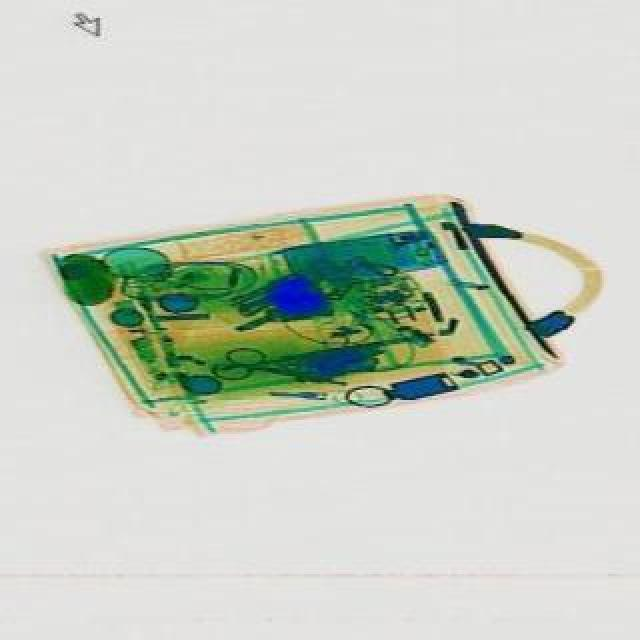pliers: (212, 342, 328, 406)
